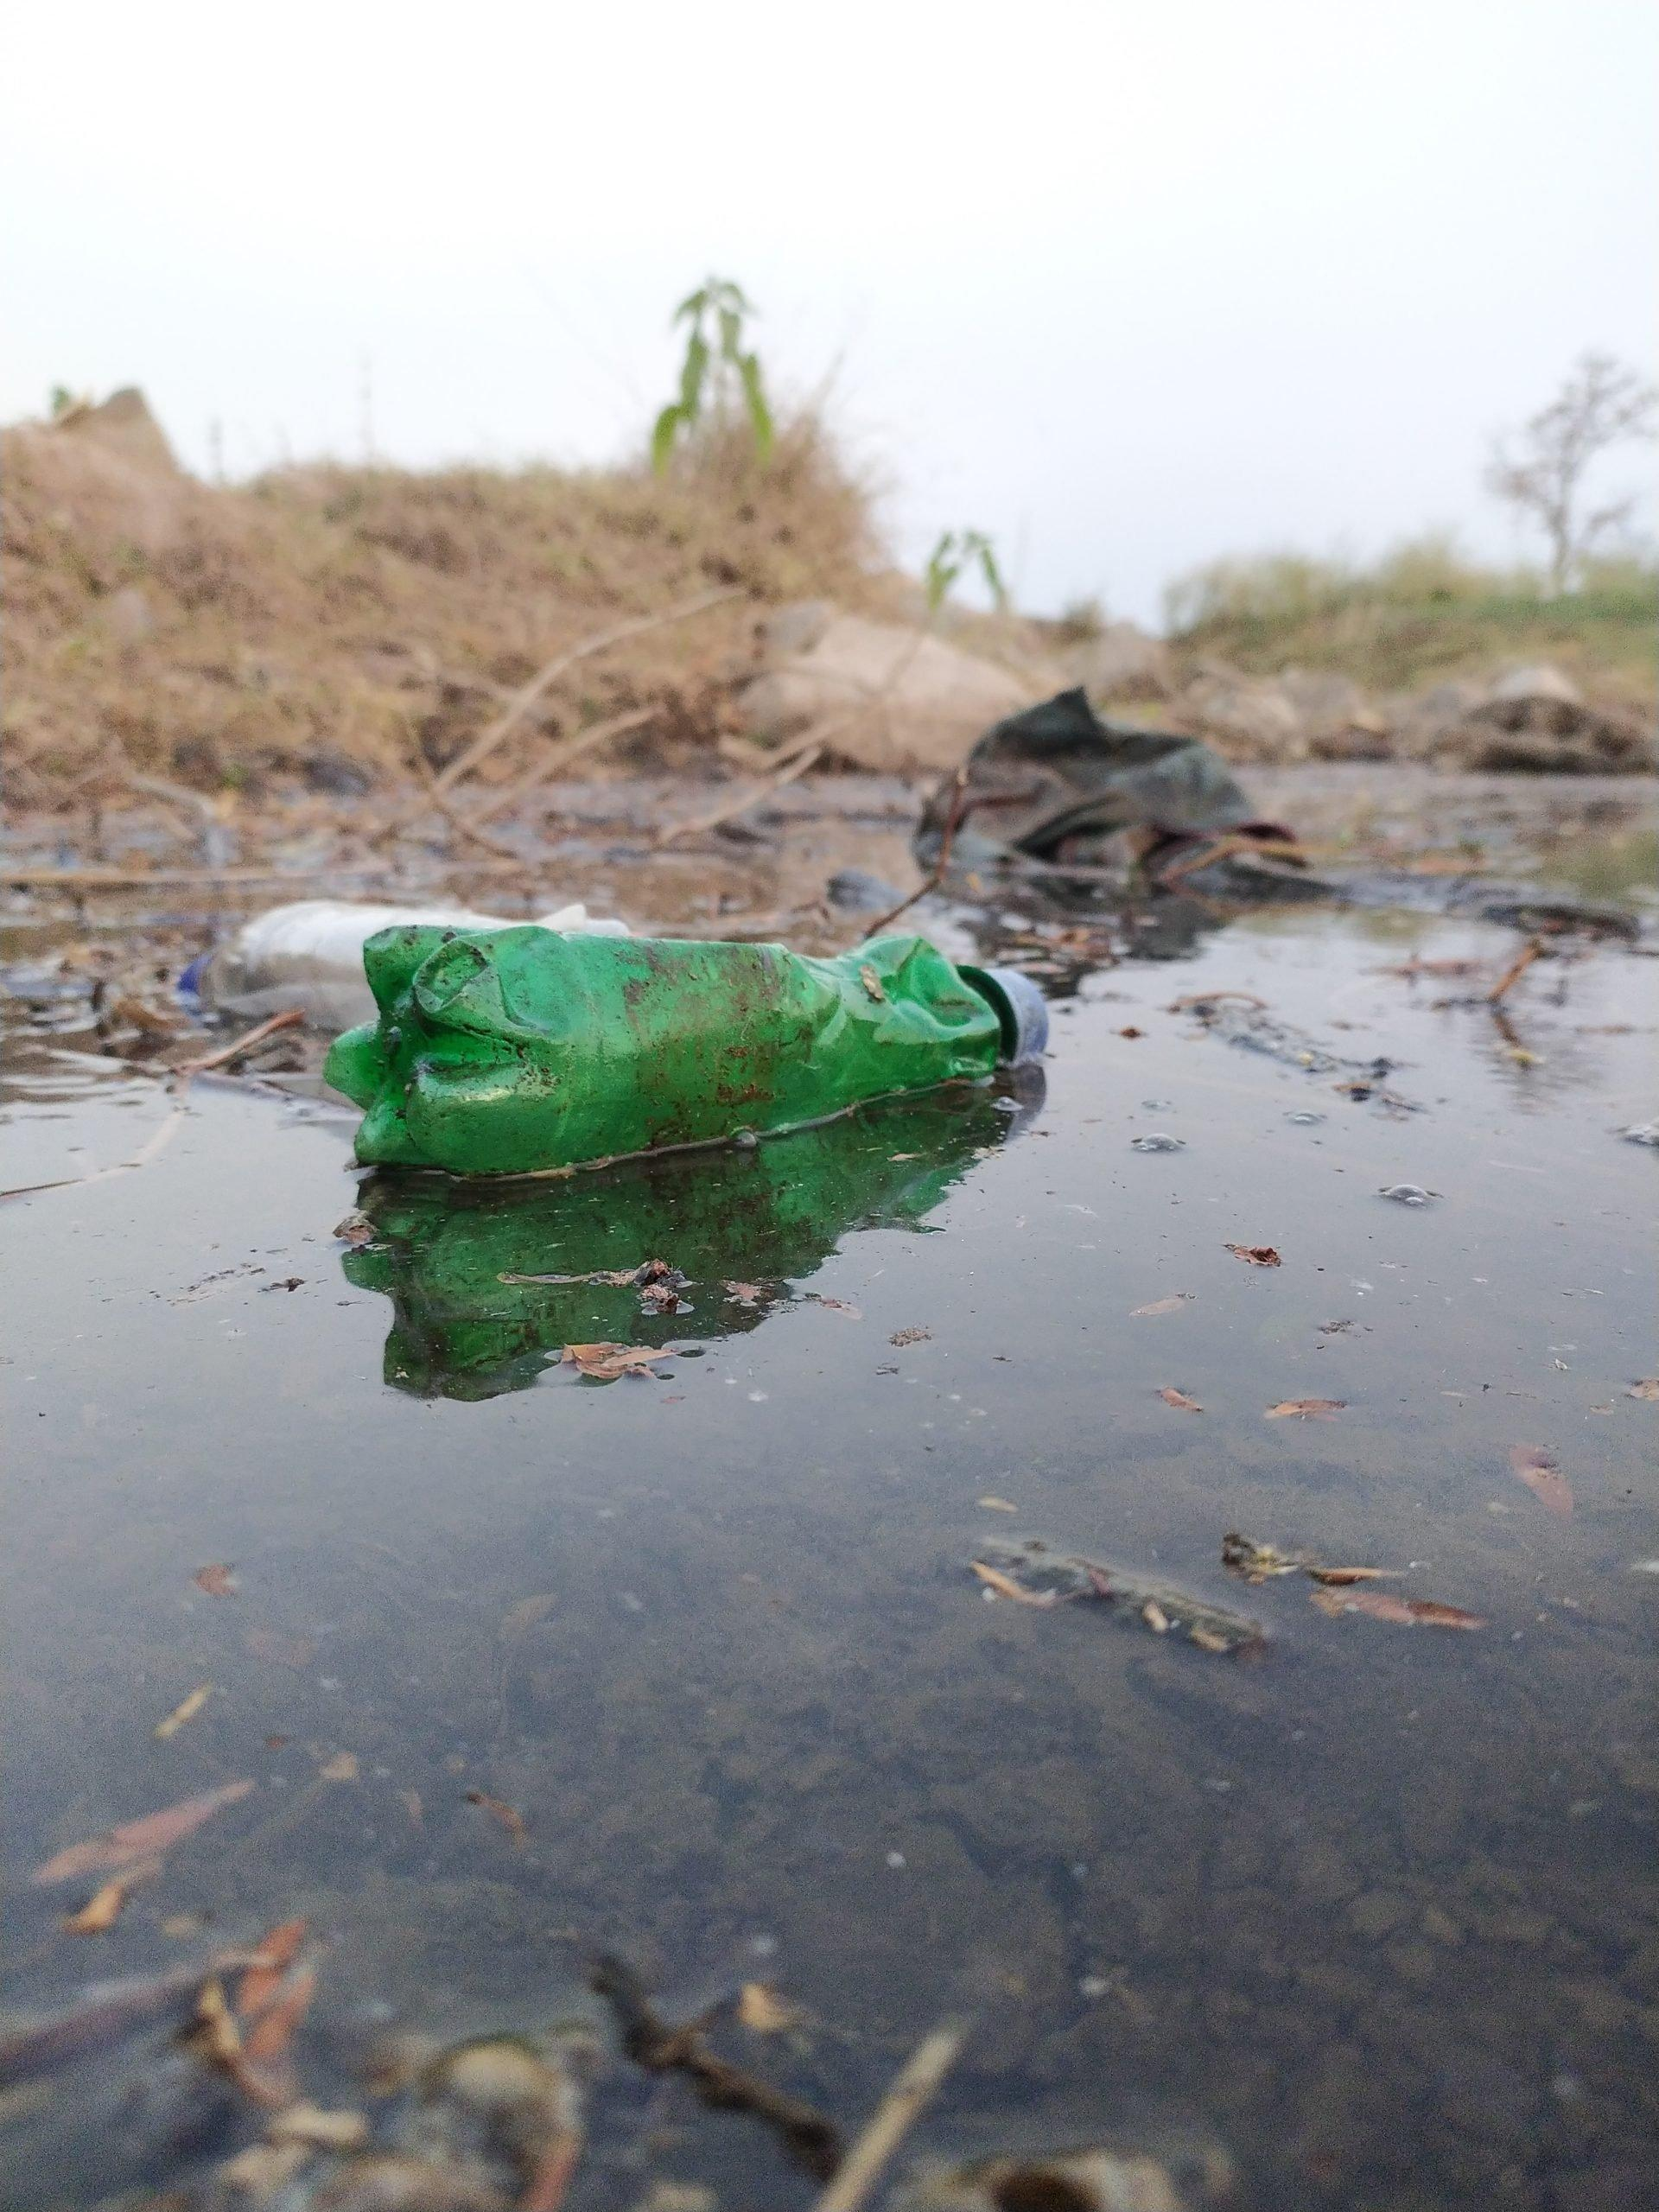bottle: (204, 801, 1239, 1400)
